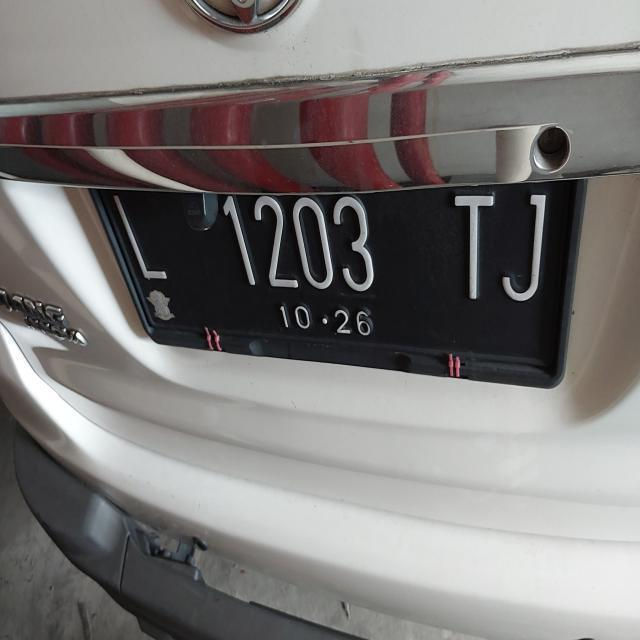0: (288, 194, 340, 294)
1: (207, 194, 254, 296)
2: (254, 195, 294, 296)
3: (334, 195, 374, 292)
J: (501, 194, 547, 305)
L: (107, 186, 176, 294)
T: (448, 188, 496, 307)
